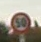limite 50: (9, 10, 33, 33)
